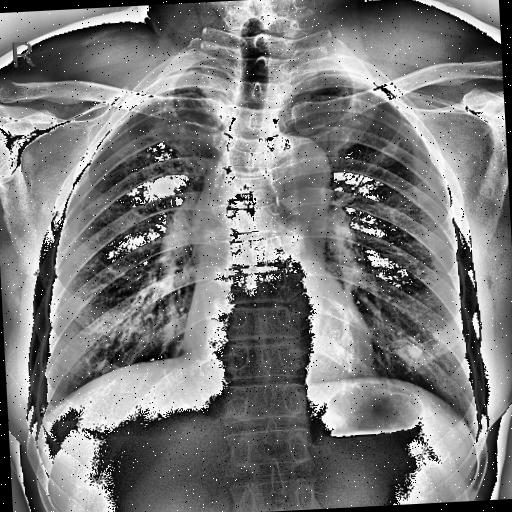0- Aortic enlargement: (254, 131, 336, 218), (257, 134, 334, 220), (264, 130, 332, 204)
11- Pleural thickening: (121, 64, 233, 114), (125, 58, 218, 106)
13- Pulmonary fibrosis: (136, 94, 204, 181), (152, 88, 196, 144), (367, 111, 401, 152), (331, 128, 356, 152), (392, 136, 412, 150)
7- Lung Opacity: (146, 51, 232, 141), (278, 62, 374, 139), (406, 346, 423, 359)
8- Nodule-Mass: (406, 344, 422, 359)
